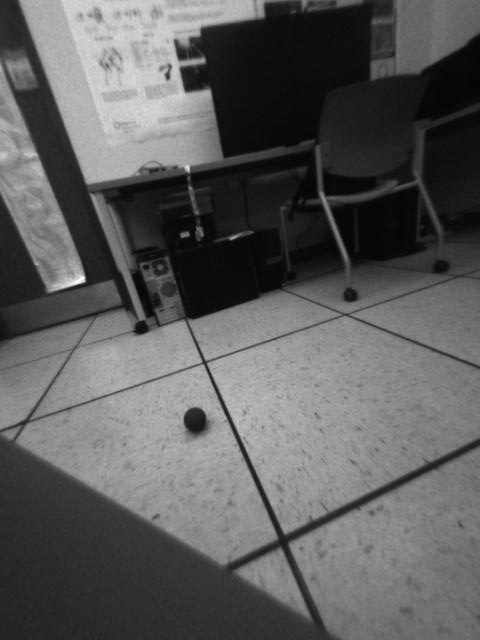dogtoy: (175, 398, 216, 443)
